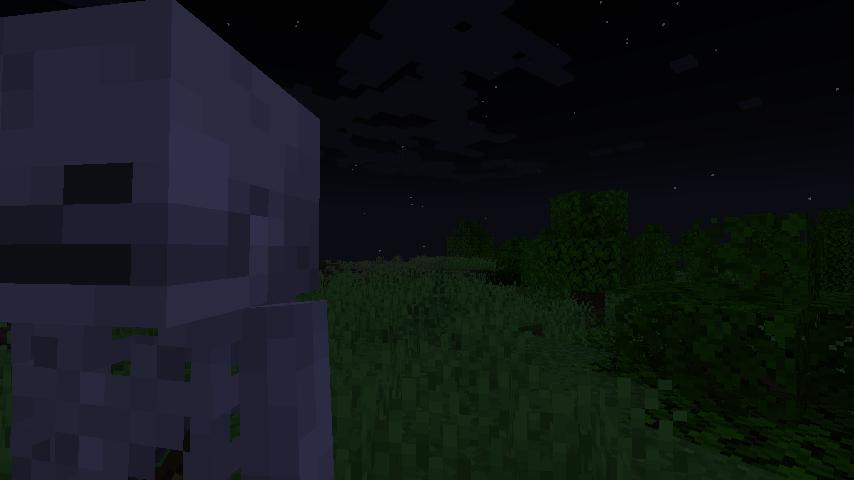pig: (0, 0, 333, 480)
